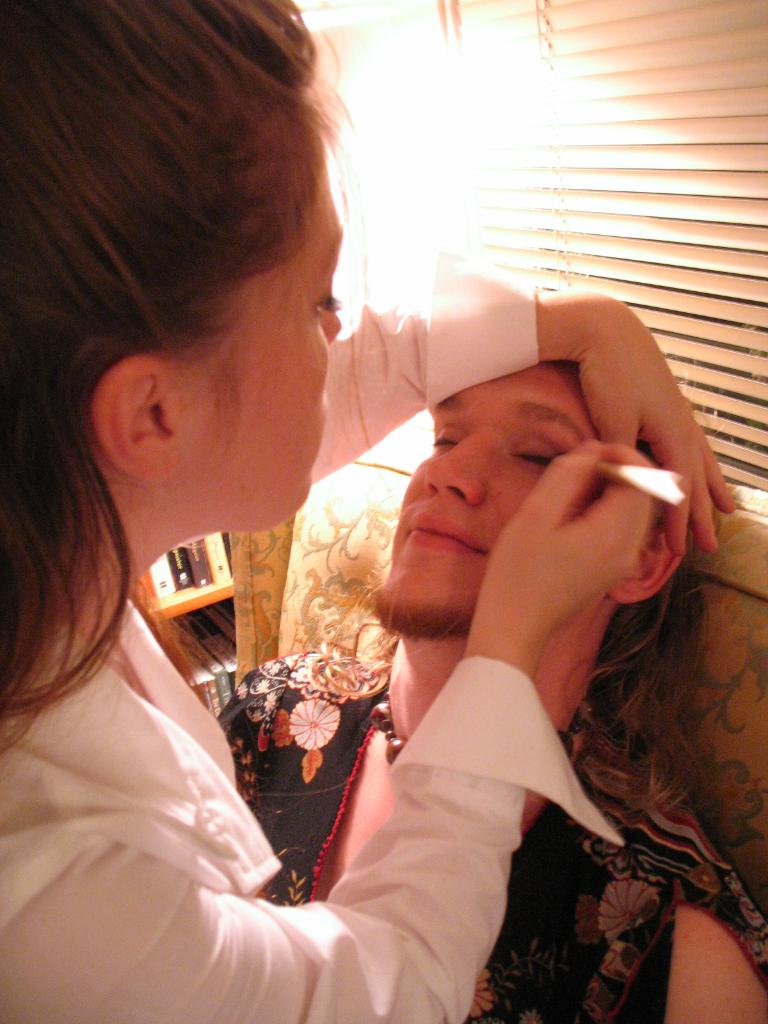Human_hand: (483, 409, 707, 673), (575, 300, 740, 563)
